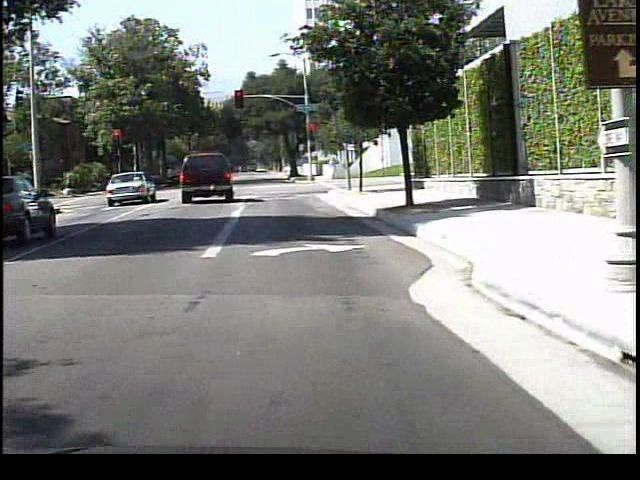person: (327, 152, 343, 180)
